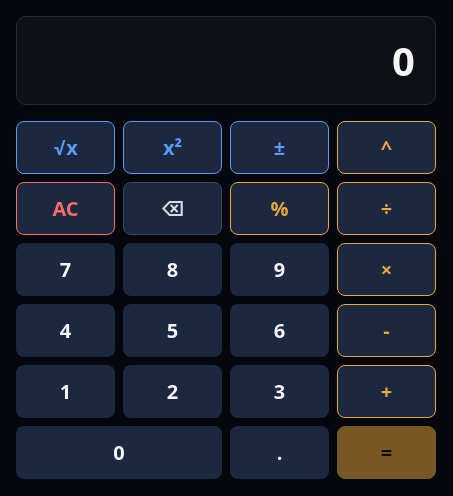
Test: Calculator — unary shortcut › √x submits the currently displayed value and shows the result
Click the button "1" at (66, 392), box [16,365,115,418]
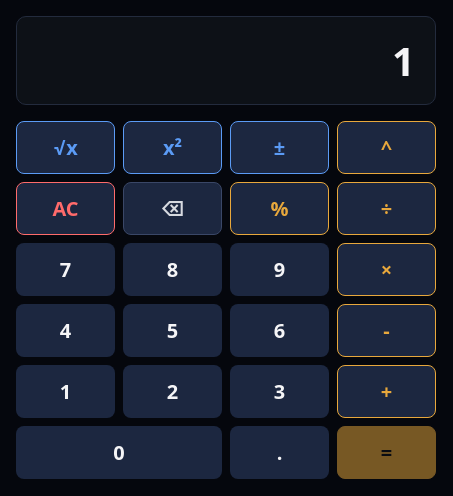
Click the button "6" at (280, 330), box [230,304,329,357]
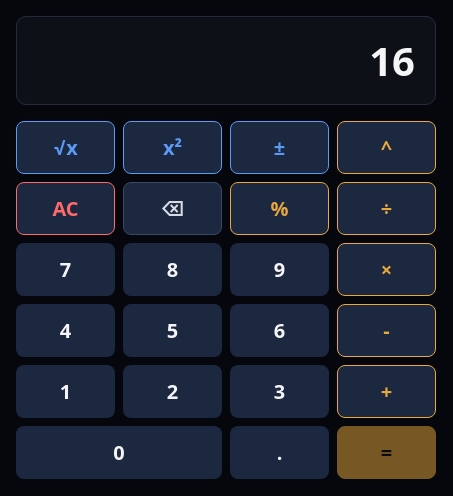
Click the button "√x" at (66, 148), box [16,121,115,174]
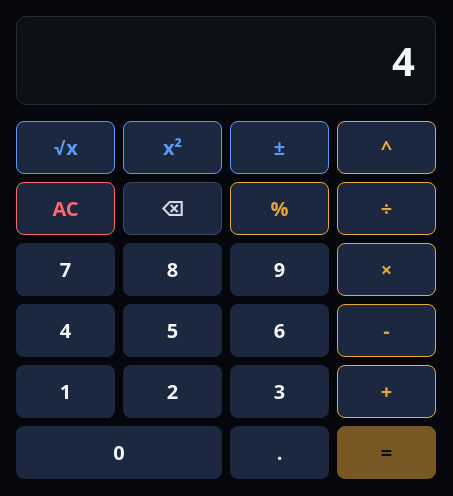
expect the text "4" is shown: met, box [392,33,415,88]
